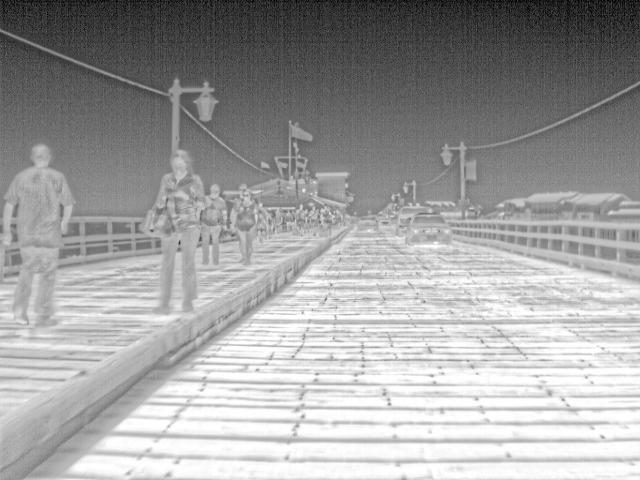car: (407, 210, 452, 243), (398, 204, 432, 230), (357, 214, 381, 232)
person: (1, 143, 76, 328), (146, 148, 212, 318), (198, 183, 228, 264), (229, 183, 258, 264), (253, 209, 269, 243), (319, 204, 335, 236), (293, 204, 307, 236), (281, 206, 295, 234), (307, 206, 320, 236), (271, 209, 285, 235), (255, 201, 271, 222)
